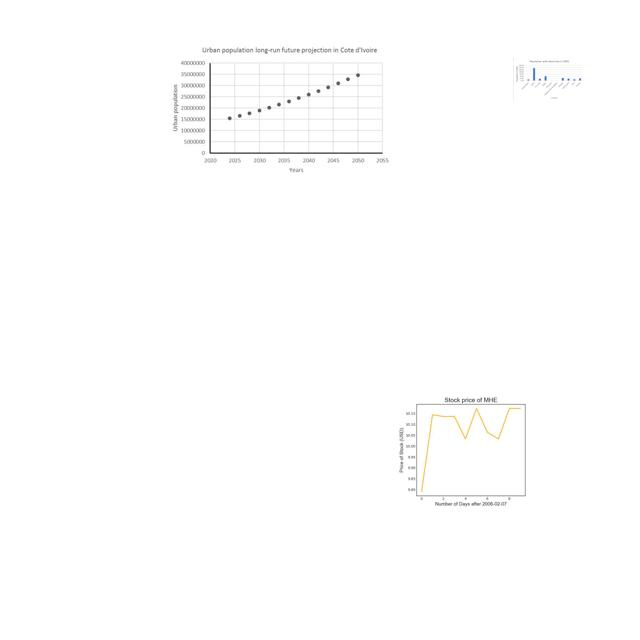Graph: (163, 45, 392, 176), (390, 390, 548, 509), (513, 58, 585, 101)
